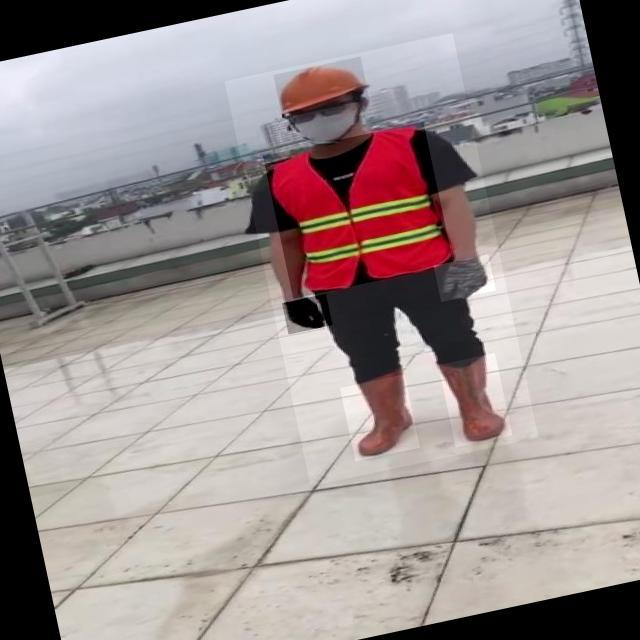Gloves: (433, 254, 496, 302), (282, 293, 333, 334)
Helmet: (274, 56, 371, 118)
Human: (224, 33, 538, 486)
Safety Boot: (340, 374, 420, 461), (438, 353, 512, 447)
Safety Vest: (263, 121, 454, 298)
